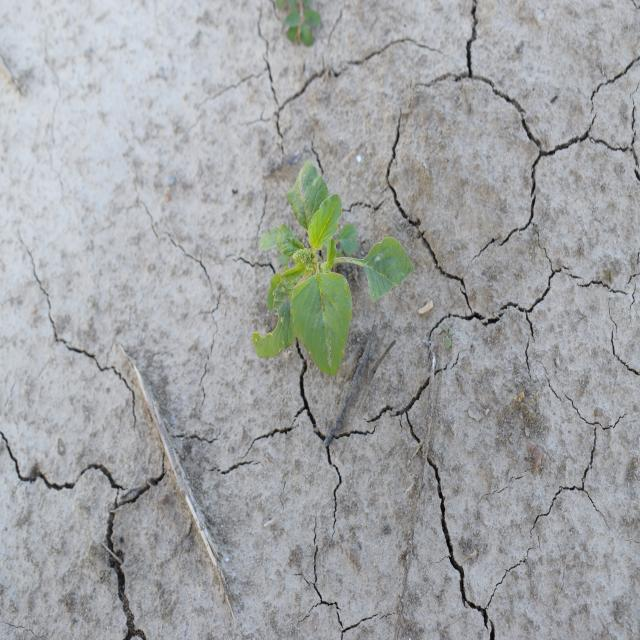PalmerAmaranth: (250, 158, 416, 379)
SpottedSpurge: (275, 1, 323, 51)
